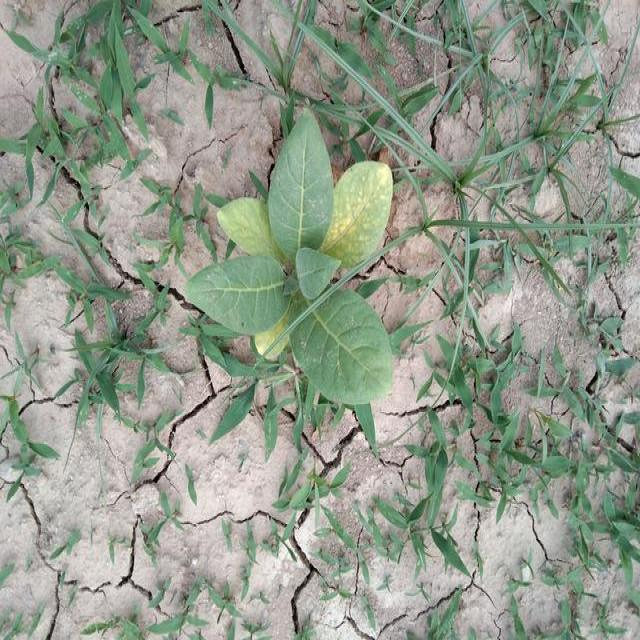crop: (170, 108, 396, 413)
